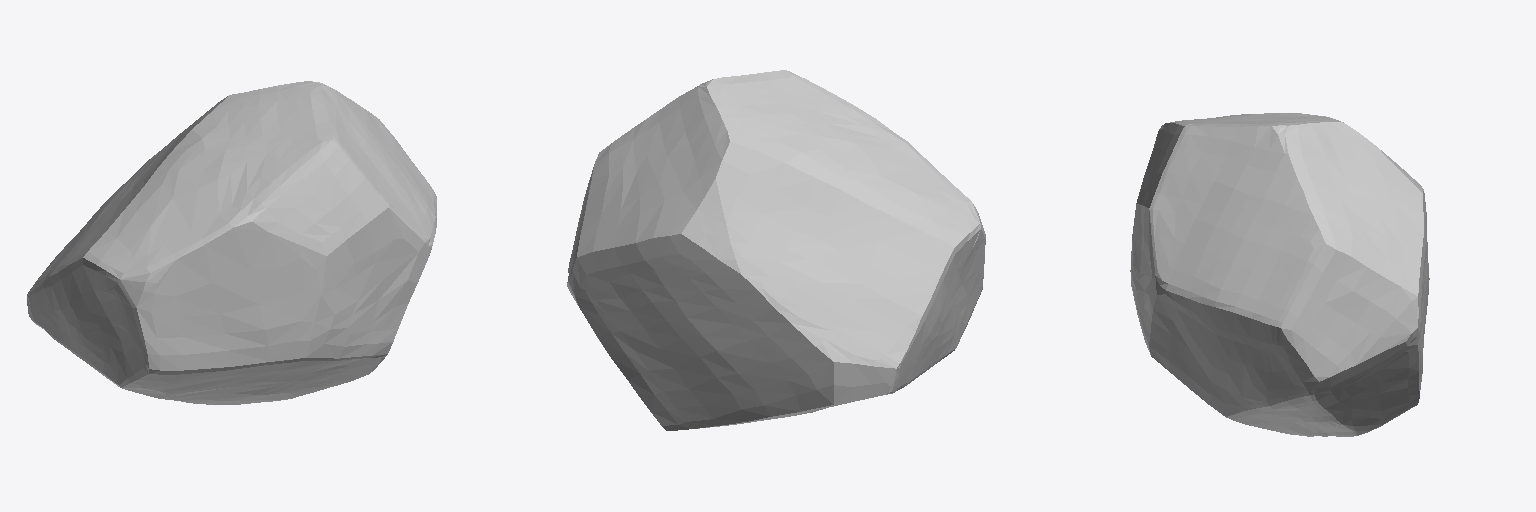
The model's file is Rock_11obj.obj.
3 views of the same model, side by side, from view 1: azimuth 30°, elevation 25°; view 2: azimuth 150°, elevation 25°; view 3: azimuth 270°, elevation 25° (orthographic).
Parts seen in each view (by area): view 1: ST_Stone3; view 2: ST_Stone3; view 3: ST_Stone3.
Part boxes in pixels (x1,y1,x2,y2): ST_Stone3: (27, 81, 436, 404); ST_Stone3: (567, 70, 985, 430); ST_Stone3: (1130, 113, 1429, 436).
Bounding box in the file's own units: 2.94 × 2.47 × 2.1.